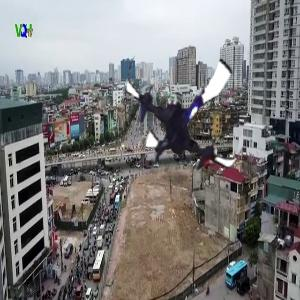drone: (114, 37, 261, 184)
